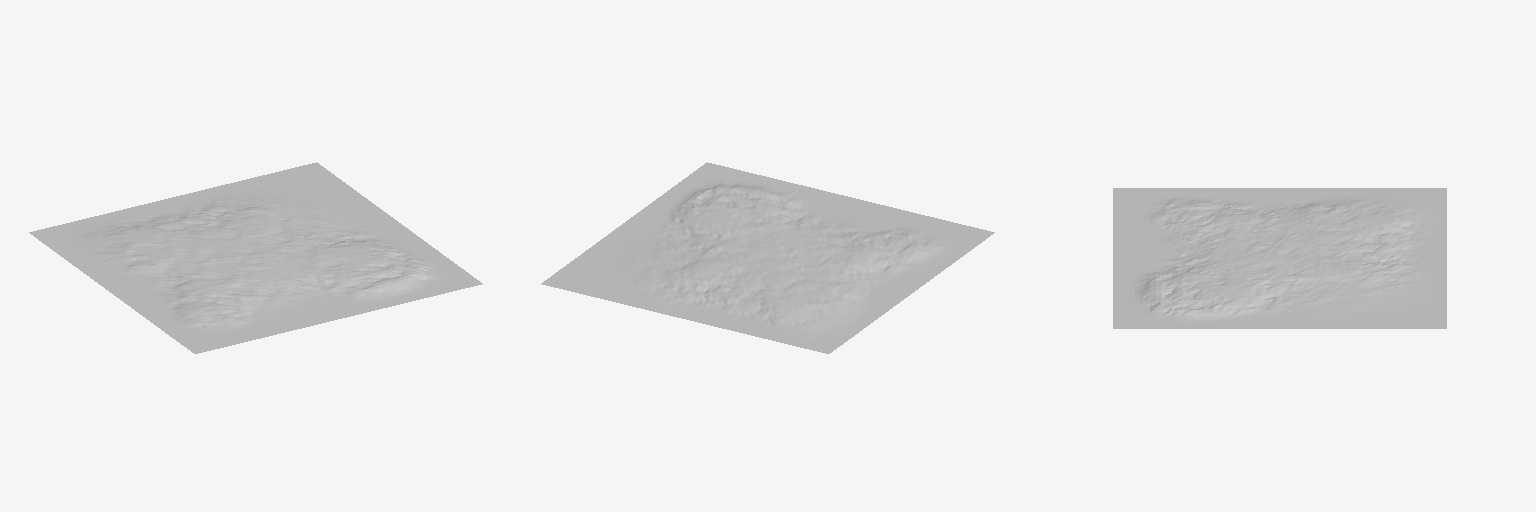
Rendered from ground_5.obj.
3 views of the same model, side by side, from view 1: azimuth 30°, elevation 25°; view 2: azimuth 150°, elevation 25°; view 3: azimuth 270°, elevation 25° (orthographic).
Parts seen in each view (by area): view 1: Plane001; view 2: Plane001; view 3: Plane001.
Boxes of the visible parts, <box> form: Plane001: <box>29,162,482,353</box>; Plane001: <box>541,162,994,353</box>; Plane001: <box>1113,188,1446,328</box>.
Size of the model in its own units: 64000 by 991 by 64000.